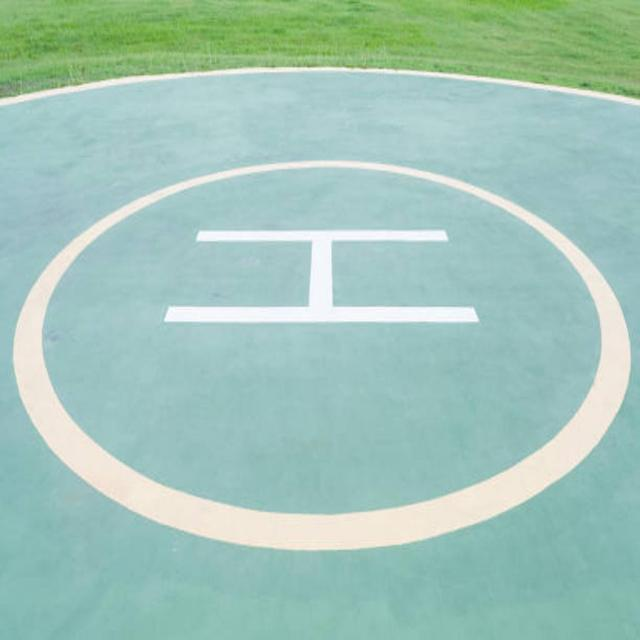helipad: (10, 155, 636, 554)
